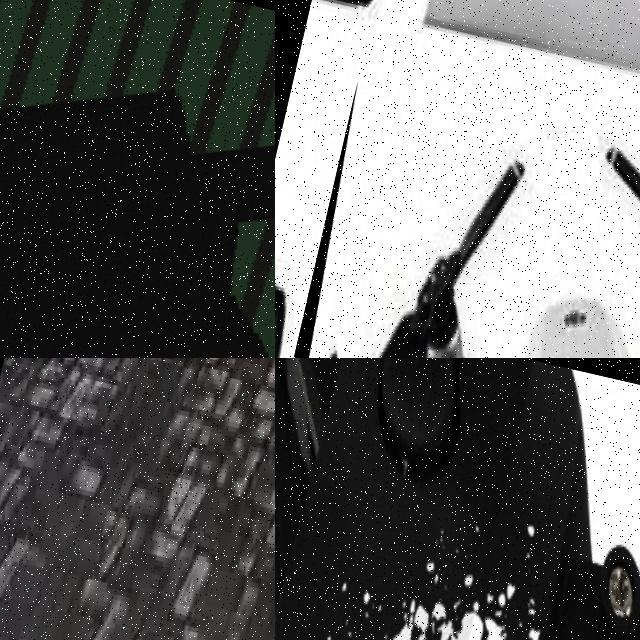drone: (275, 358, 640, 640), (275, 79, 640, 358), (0, 0, 275, 358)
